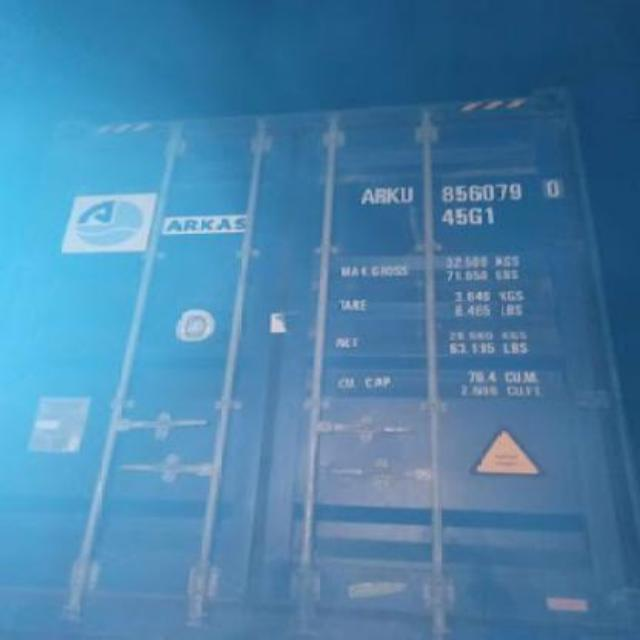0: (540, 176, 564, 202), (482, 174, 496, 203)
5: (454, 172, 468, 204)
6: (466, 178, 482, 202)
7: (492, 172, 508, 204)
8: (441, 174, 454, 203)
9: (510, 174, 522, 208)
A: (358, 178, 374, 210)
K: (384, 181, 400, 207)
R: (372, 176, 386, 212)
U: (400, 180, 420, 210)
